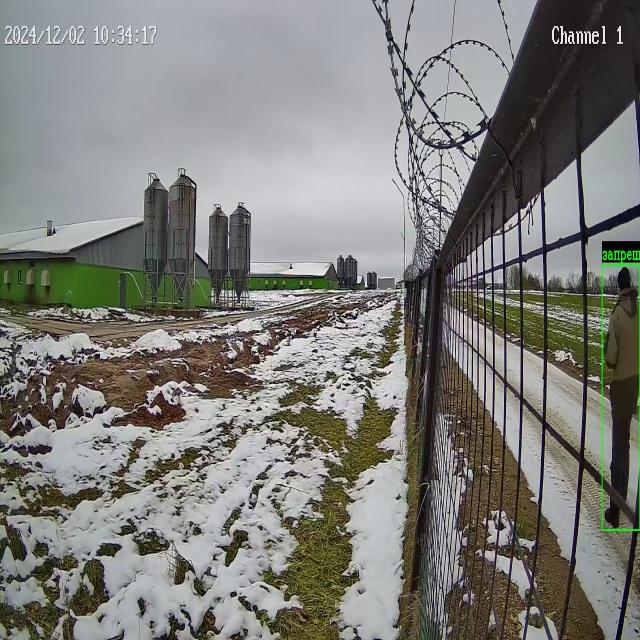Person: (606, 267, 640, 498), (605, 500, 620, 527)
